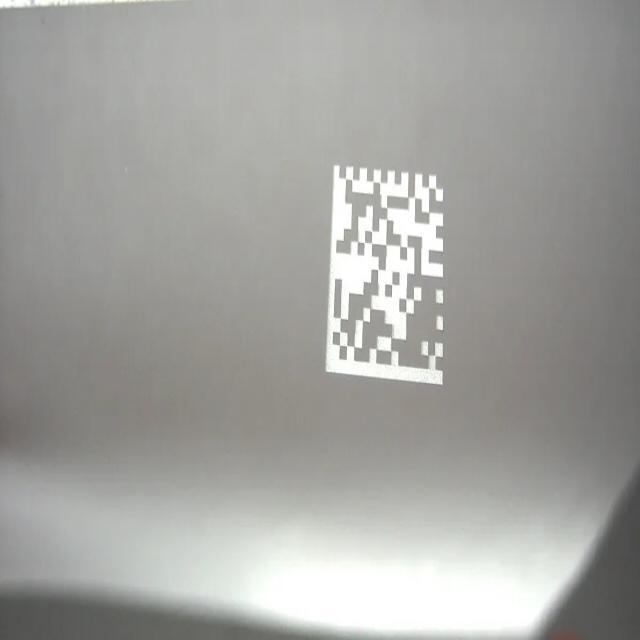Data-Matrix: (317, 151, 454, 407)
